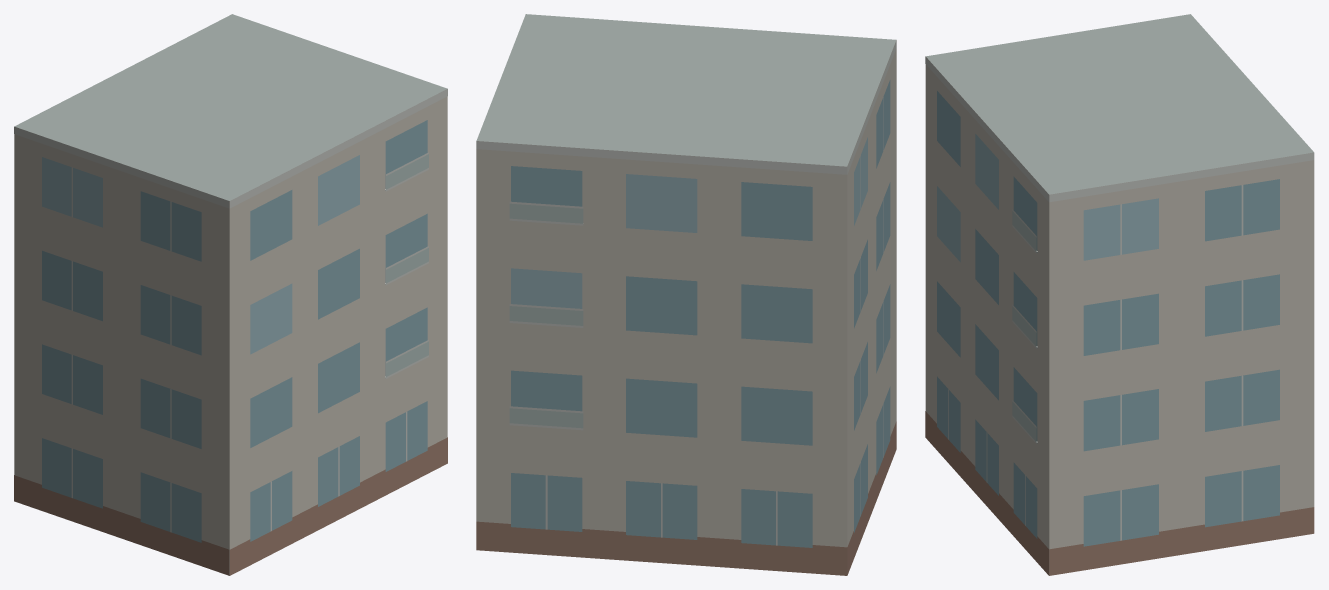
File: residential-c30bf18b-a3d1-477b-b9b0-0147c87707e7.glb
3 renders of one model, left to right at view 1: azimuth 30°, elevation 25°; view 2: azimuth 150°, elevation 25°; view 3: azimuth 270°, elevation 25°, orthographic. The views are drawn at different scales.
Parts seen in each view (by area): view 1: residential-c30bf18b-a3d1-477b-b9b0-0147c87707e7.tmp; view 2: residential-c30bf18b-a3d1-477b-b9b0-0147c87707e7.tmp; view 3: residential-c30bf18b-a3d1-477b-b9b0-0147c87707e7.tmp.
Boxes of the visible parts, left/top/right/bottom form: residential-c30bf18b-a3d1-477b-b9b0-0147c87707e7.tmp: left=14, top=14, right=447, bottom=575; residential-c30bf18b-a3d1-477b-b9b0-0147c87707e7.tmp: left=476, top=14, right=896, bottom=575; residential-c30bf18b-a3d1-477b-b9b0-0147c87707e7.tmp: left=925, top=14, right=1314, bottom=575.
Size of the model in its own units: 12.41 by 12.2 by 11.29.
